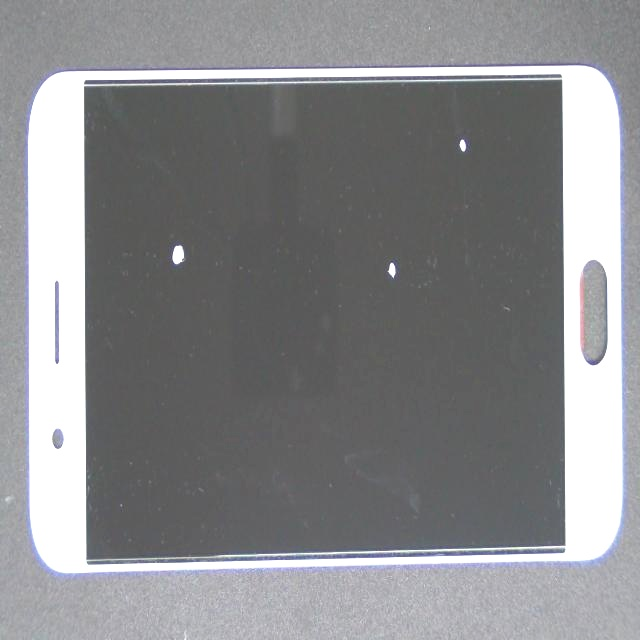stain: (226, 150, 614, 391), (256, 90, 640, 210), (122, 87, 284, 324)
